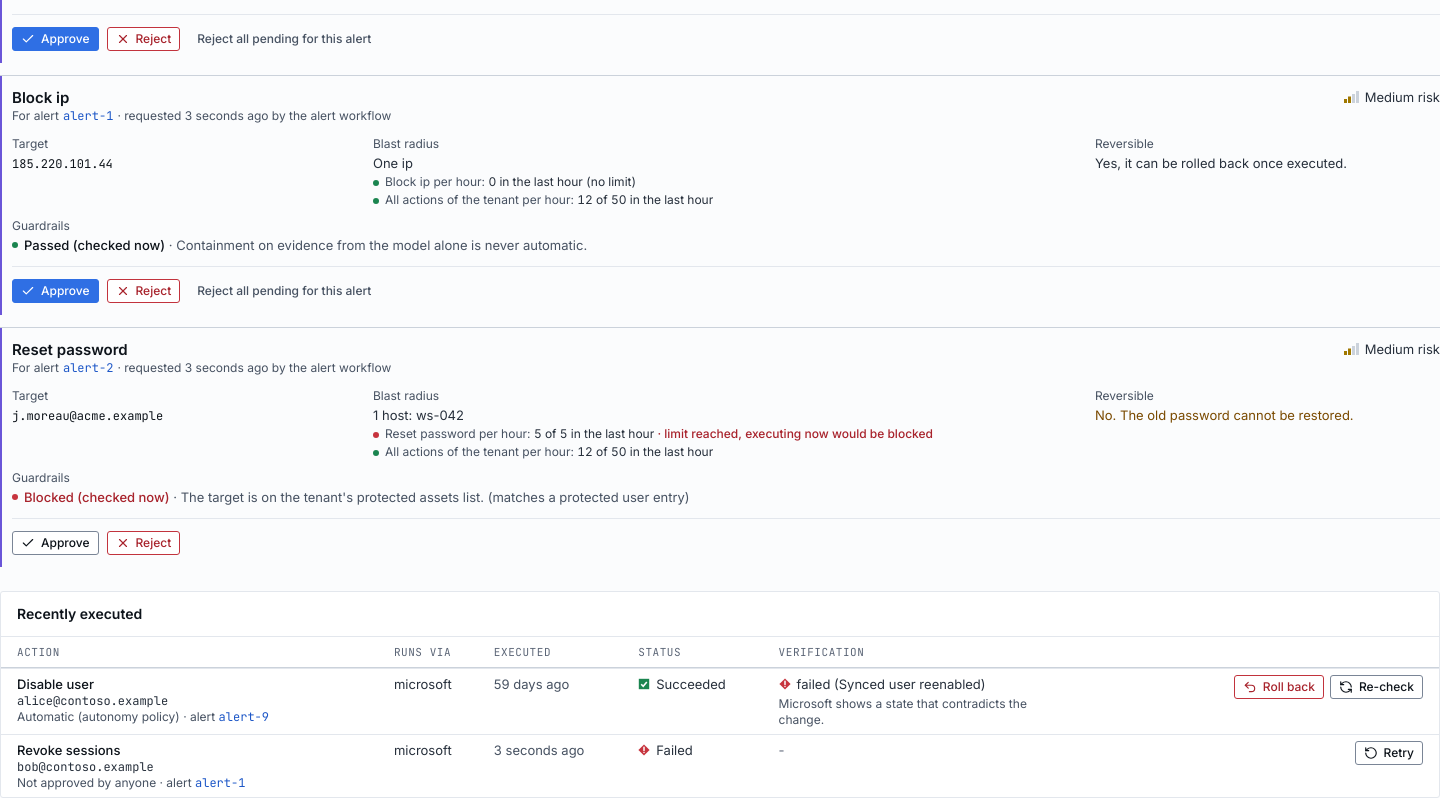
Test: ApprovalsPage: pending approvals › warns before approving an action a guardrail blocks, and shows an API refusal in the dialog
(page scrolled)
Click the button "Approve" below "Blocked (checked now)": (55, 543) [12,531,98,555]
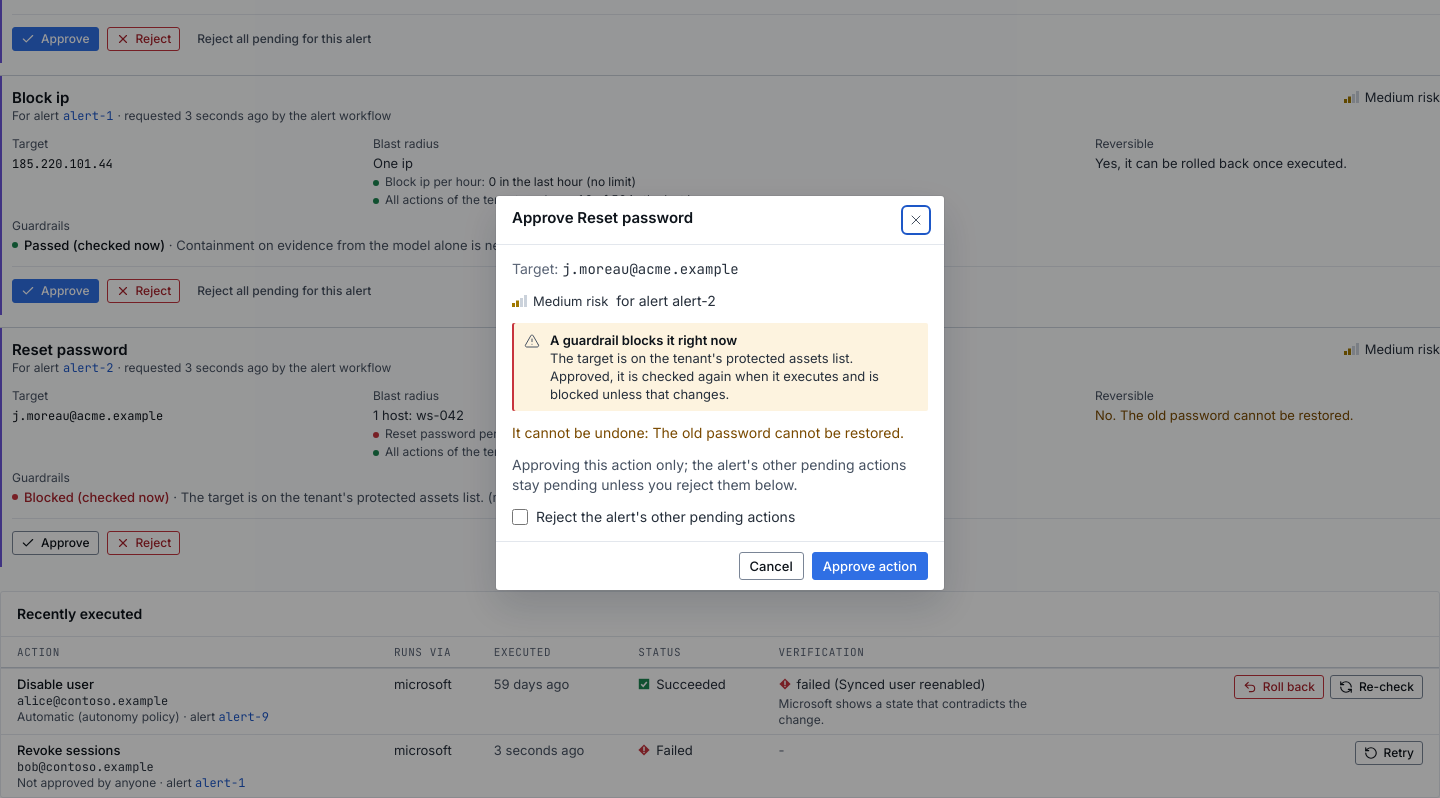
Expected: the text "A guardrail blocks it right now" is shown, [550,332,737,348]
Expected: the text "It cannot be undone: The old password cannot be restored." is shown, [512,423,928,443]
Click the button "Approve action": (870, 566) [812,552,928,580]
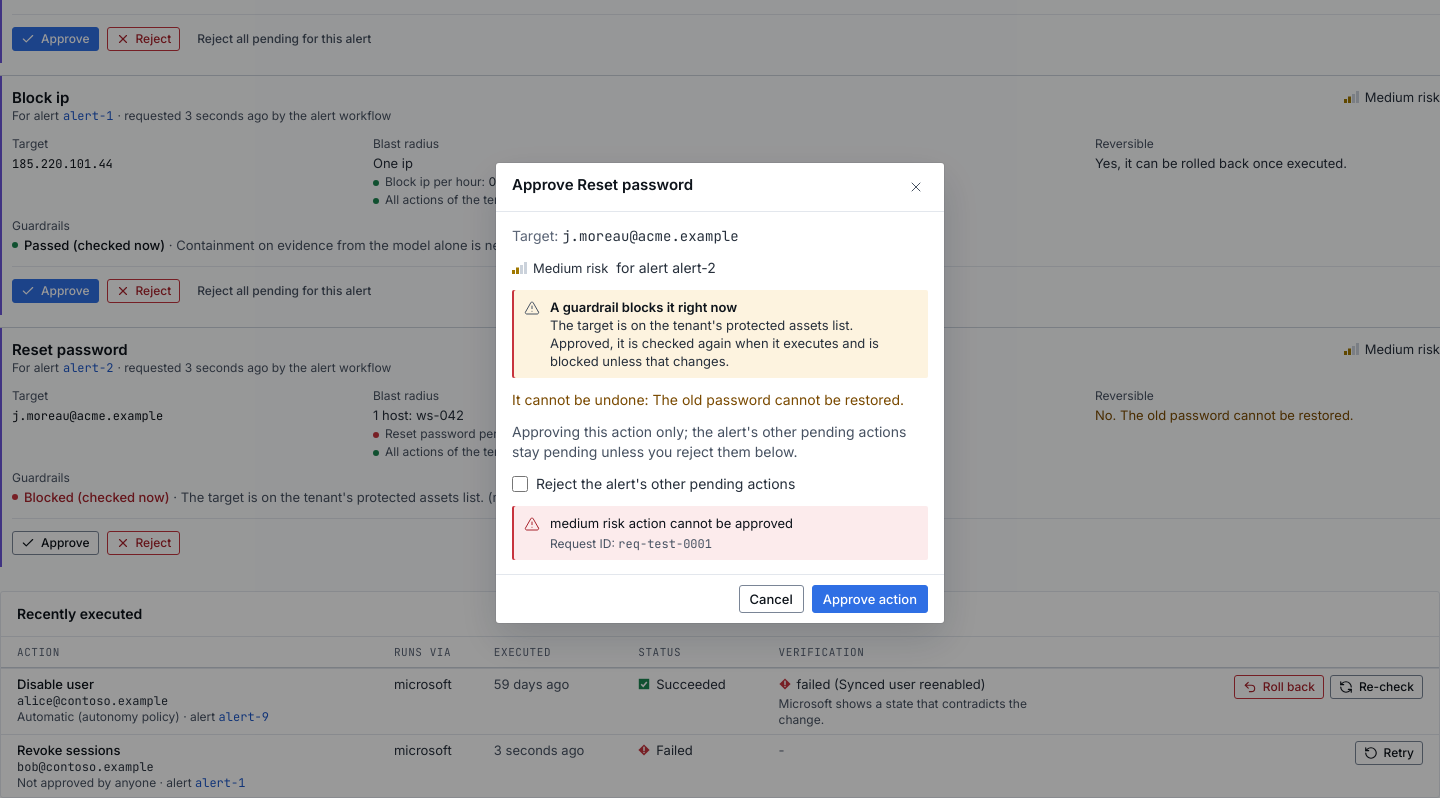
Expected: the text "medium risk action cannot be approved" is shown, [550,515,793,531]
